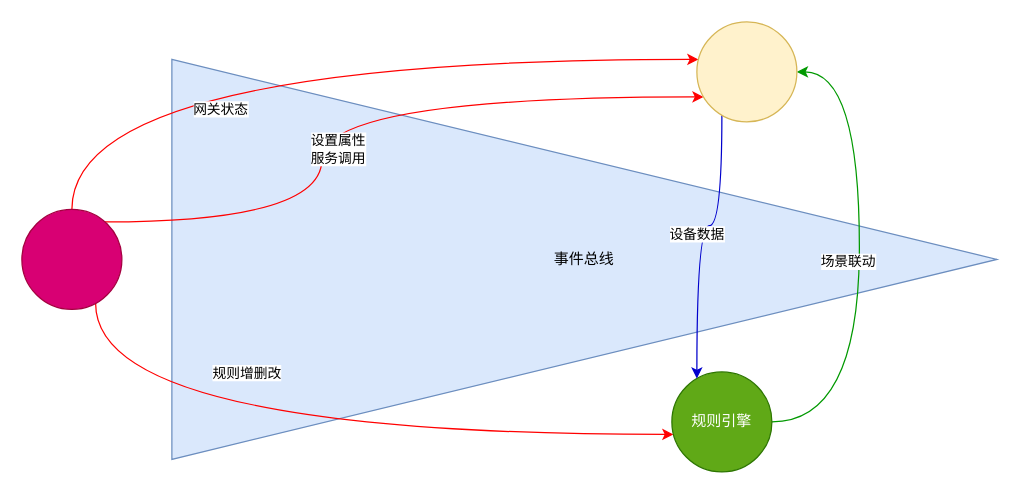
Image size: 1019x494. Some labels were removed from this diagram. Each missing label, with the centre of its shape:
"OpenAPI" belongs at point (71, 258).
"设备网关" belongs at point (746, 71).
